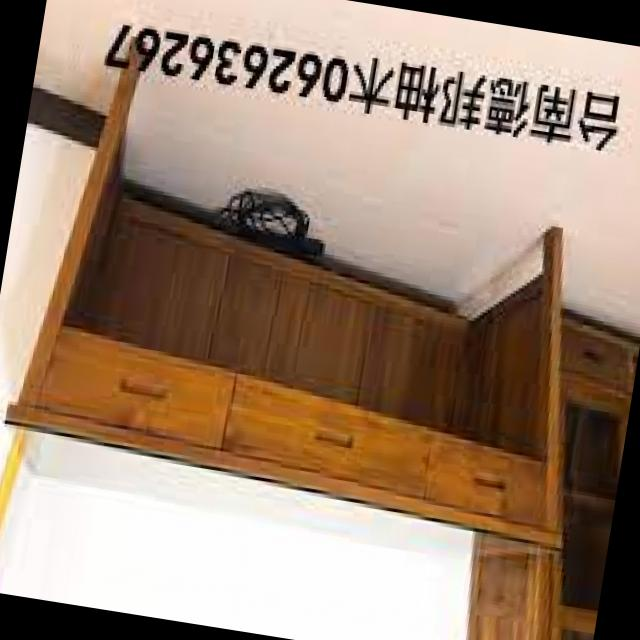Table: (0, 70, 626, 599)
